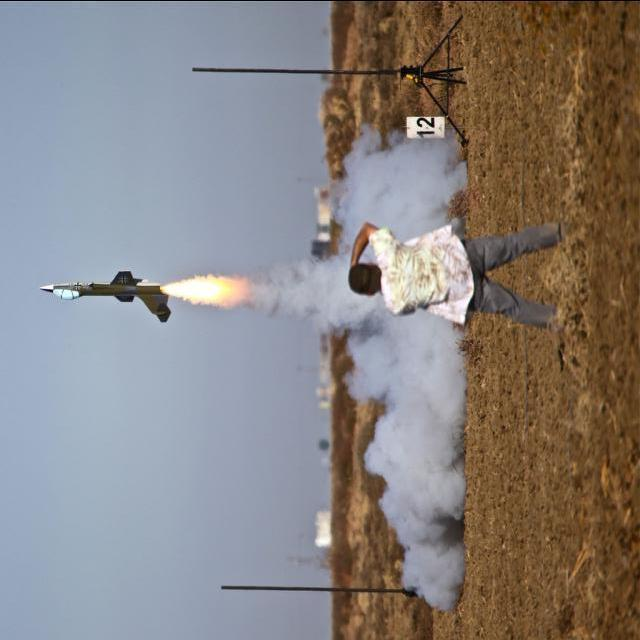missile: (32, 269, 180, 330)
